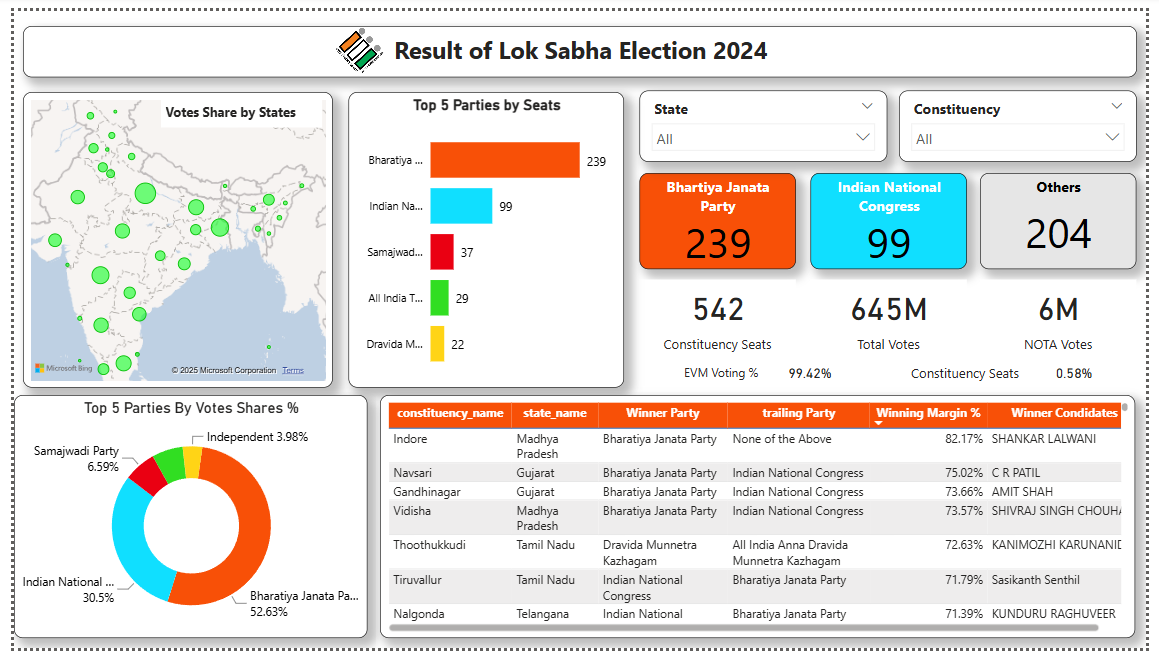

The page's visual inventory and layout, read from the dashboard file:
{"tool":"powerbi","page":{"name":"Dashboard","canvas":[1280,720],"ordinal":1},"visuals":[{"type":"textbox","box":[9.7,16.2,1258.8,58.2],"z":0},{"type":"image","box":[359.2,19.4,63.1,51.8],"z":1000},{"type":"card","title":"Bhartiya Janata Party","fields":{"Values":["election_result_2024.BJP_Won Seat"]},"box":[707.1,182.8,176.4,108.4],"z":2000},{"type":"slicer","fields":{"Values":["election_result_2024.state_name"]},"box":[707.1,90.6,279.9,80.9],"z":3000},{"type":"slicer","fields":{"Values":["election_result_2024.constituency_name"]},"box":[999.9,90.6,268.6,80.9],"z":4000},{"type":"card","title":"Indian National Congress","fields":{"Values":["election_result_2024.Congress Won Seat"]},"box":[899.6,182.8,176.4,108.4],"z":5000},{"type":"card","title":"Others","fields":{"Values":["election_result_2024.Other Won Seat"]},"box":[1092.1,182.8,176.4,108.4],"z":6000},{"type":"card","fields":{"Values":["election_result_2024.Total Constituency"]},"box":[707.1,302.6,176.4,58.2],"z":7000},{"type":"textbox","box":[707.1,360.8,176.4,32.4],"z":8000},{"type":"card","fields":{"Values":["election_result_2024.Total Votes"]},"box":[899.6,302.6,176.4,58.2],"z":9000},{"type":"textbox","box":[899.6,360.8,176.4,32.4],"z":10000},{"type":"card","fields":{"Values":["election_result_2024.NOTA Votes"]},"box":[1092.1,302.6,176.4,58.2],"z":11000},{"type":"textbox","box":[1092.1,360.8,176.4,32.4],"z":12000},{"type":"textbox","box":[723.2,393.2,150.5,32.4],"z":13000},{"type":"card","fields":{"Values":["election_result_2024.%_EVM_Votes"]},"box":[843,393.2,113.3,32.4],"z":14000},{"type":"textbox","box":[987,393.2,176.4,32.4],"z":15000},{"type":"card","fields":{"Values":["election_result_2024.%_Postal_Votes"]},"box":[1147.1,393.2,100.3,32.4],"z":16000},{"type":"map","fields":{"Size":["election_result_2024.Total Votes"],"Category":["election_result_2024.state_name"]},"box":[9.6,91.1,350,334],"z":17000},{"type":"textbox","box":[166.2,97.5,182.2,33.6],"z":18000},{"type":"barChart","title":"Top 5 Parties by Seats","fields":{"Category":["election_result_2024.party_name"],"Y":["election_result_2024.Seats Wons"]},"box":[377.1,91.1,311.6,334],"z":19000},{"type":"donutChart","title":"Top 5 Parties By Votes Shares %","fields":{"Category":["election_result_2024.party_name"],"Y":["election_result_2024.Total Votes"]},"box":[0,434.7,399.5,274.9],"z":20000},{"type":"tableEx","fields":{"Values":["election_result_2024.constituency_name","election_result_2024.state_name","election_result_2024.Winner Party","election_result_2024.trailing Party","election_result_2024.Winning Margin %","election_result_2024.Winner Condidates"]},"box":[413.9,434.7,853.3,274.9],"z":21000}]}

Visuals, with their boxes in screenshot pixels (x1, y1, x2, y2), scaled from the page's 1280x720 canvas onto the 1159x653 screenshot:
textbox: l=9, t=15, r=1149, b=67
image: l=325, t=18, r=382, b=65
"Bhartiya Janata Party" card: l=640, t=166, r=800, b=264
slicer - election_result_2024.state_name: l=640, t=82, r=894, b=156
slicer - election_result_2024.constituency_name: l=905, t=82, r=1149, b=156
"Indian National Congress" card: l=815, t=166, r=974, b=264
"Others" card: l=989, t=166, r=1149, b=264
card - election_result_2024.Total Constituency: l=640, t=274, r=800, b=327
textbox: l=640, t=327, r=800, b=357
card - election_result_2024.Total Votes: l=815, t=274, r=974, b=327
textbox: l=815, t=327, r=974, b=357
card - election_result_2024.NOTA Votes: l=989, t=274, r=1149, b=327
textbox: l=989, t=327, r=1149, b=357
textbox: l=655, t=357, r=791, b=386
card - election_result_2024.%_EVM_Votes: l=763, t=357, r=866, b=386
textbox: l=894, t=357, r=1053, b=386
card - election_result_2024.%_Postal_Votes: l=1039, t=357, r=1129, b=386
map - election_result_2024.Total Votes x election_result_2024.state_name: l=9, t=83, r=326, b=386
textbox: l=150, t=88, r=315, b=119
"Top 5 Parties by Seats" barChart: l=341, t=83, r=624, b=386
"Top 5 Parties By Votes Shares %" donutChart: l=0, t=394, r=362, b=644
tableEx - election_result_2024.constituency_name x election_result_2024.state_name: l=375, t=394, r=1147, b=644
